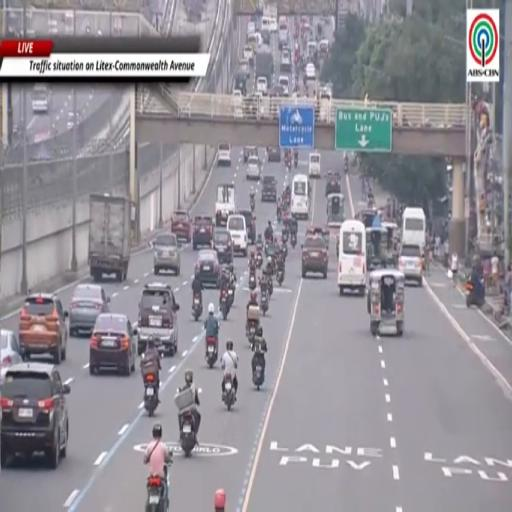car: (0, 362, 70, 469), (19, 293, 68, 364), (137, 282, 179, 356), (89, 313, 136, 376), (69, 284, 109, 335), (0, 329, 22, 383), (152, 233, 180, 275), (302, 235, 328, 278), (399, 245, 423, 285), (195, 249, 220, 287), (227, 215, 248, 255), (212, 228, 233, 264), (193, 216, 214, 250), (171, 211, 191, 243), (239, 211, 256, 244), (306, 226, 330, 249), (261, 176, 276, 202), (326, 171, 341, 196), (246, 155, 260, 180), (218, 143, 231, 166), (278, 76, 290, 96), (280, 51, 291, 72), (243, 45, 254, 66), (243, 147, 257, 163), (267, 147, 281, 162), (239, 59, 250, 78), (256, 77, 267, 94), (319, 40, 329, 57), (306, 62, 315, 79), (273, 84, 284, 97), (67, 111, 74, 130), (261, 30, 270, 44), (247, 22, 256, 35), (270, 19, 278, 33)
motorcycle: (146, 467, 169, 511), (180, 410, 196, 456), (144, 374, 158, 417), (466, 280, 485, 308), (223, 372, 236, 410), (253, 352, 264, 390), (207, 336, 217, 369), (221, 288, 229, 321), (192, 295, 202, 321), (247, 320, 257, 343), (248, 271, 257, 291), (228, 284, 235, 309), (261, 294, 268, 315), (276, 268, 284, 286), (256, 250, 263, 268), (268, 278, 273, 297), (282, 243, 287, 260), (250, 197, 255, 213), (282, 231, 288, 244), (291, 233, 296, 248), (277, 208, 282, 222), (294, 155, 298, 168)
truck: (89, 195, 131, 282), (255, 48, 273, 85)
